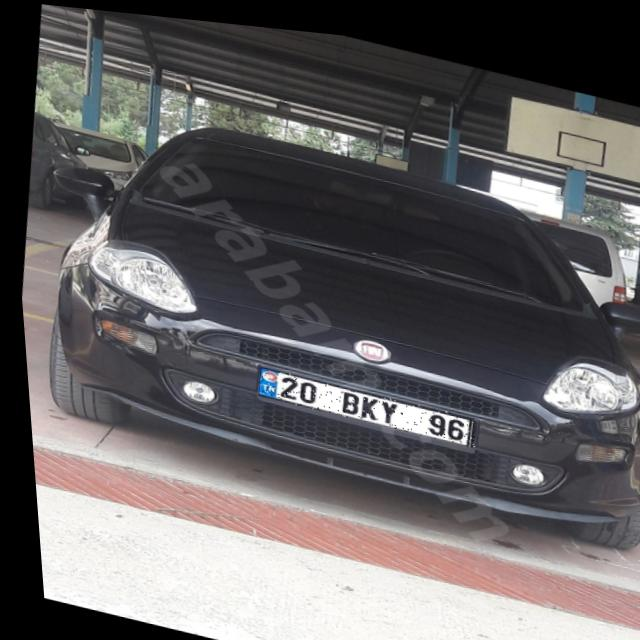license_plate: (251, 361, 473, 439)
